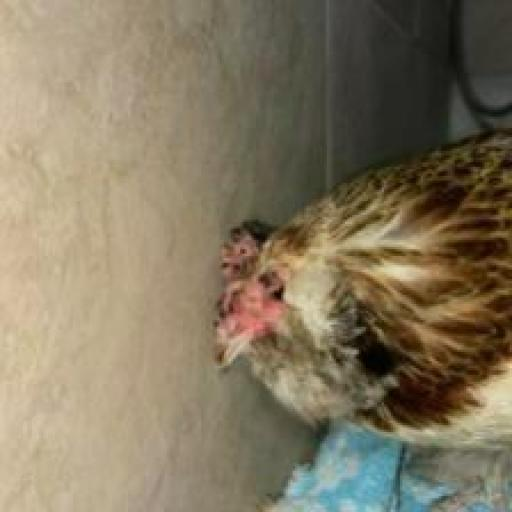disease: (208, 214, 294, 378)
